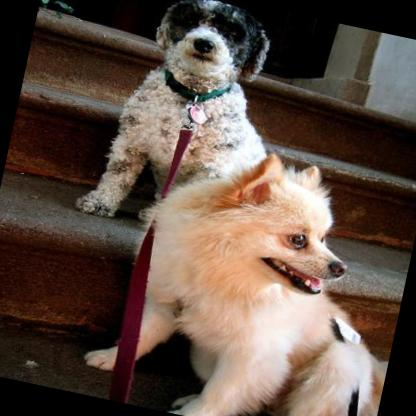Pomeranian: (74, 124, 416, 416)
